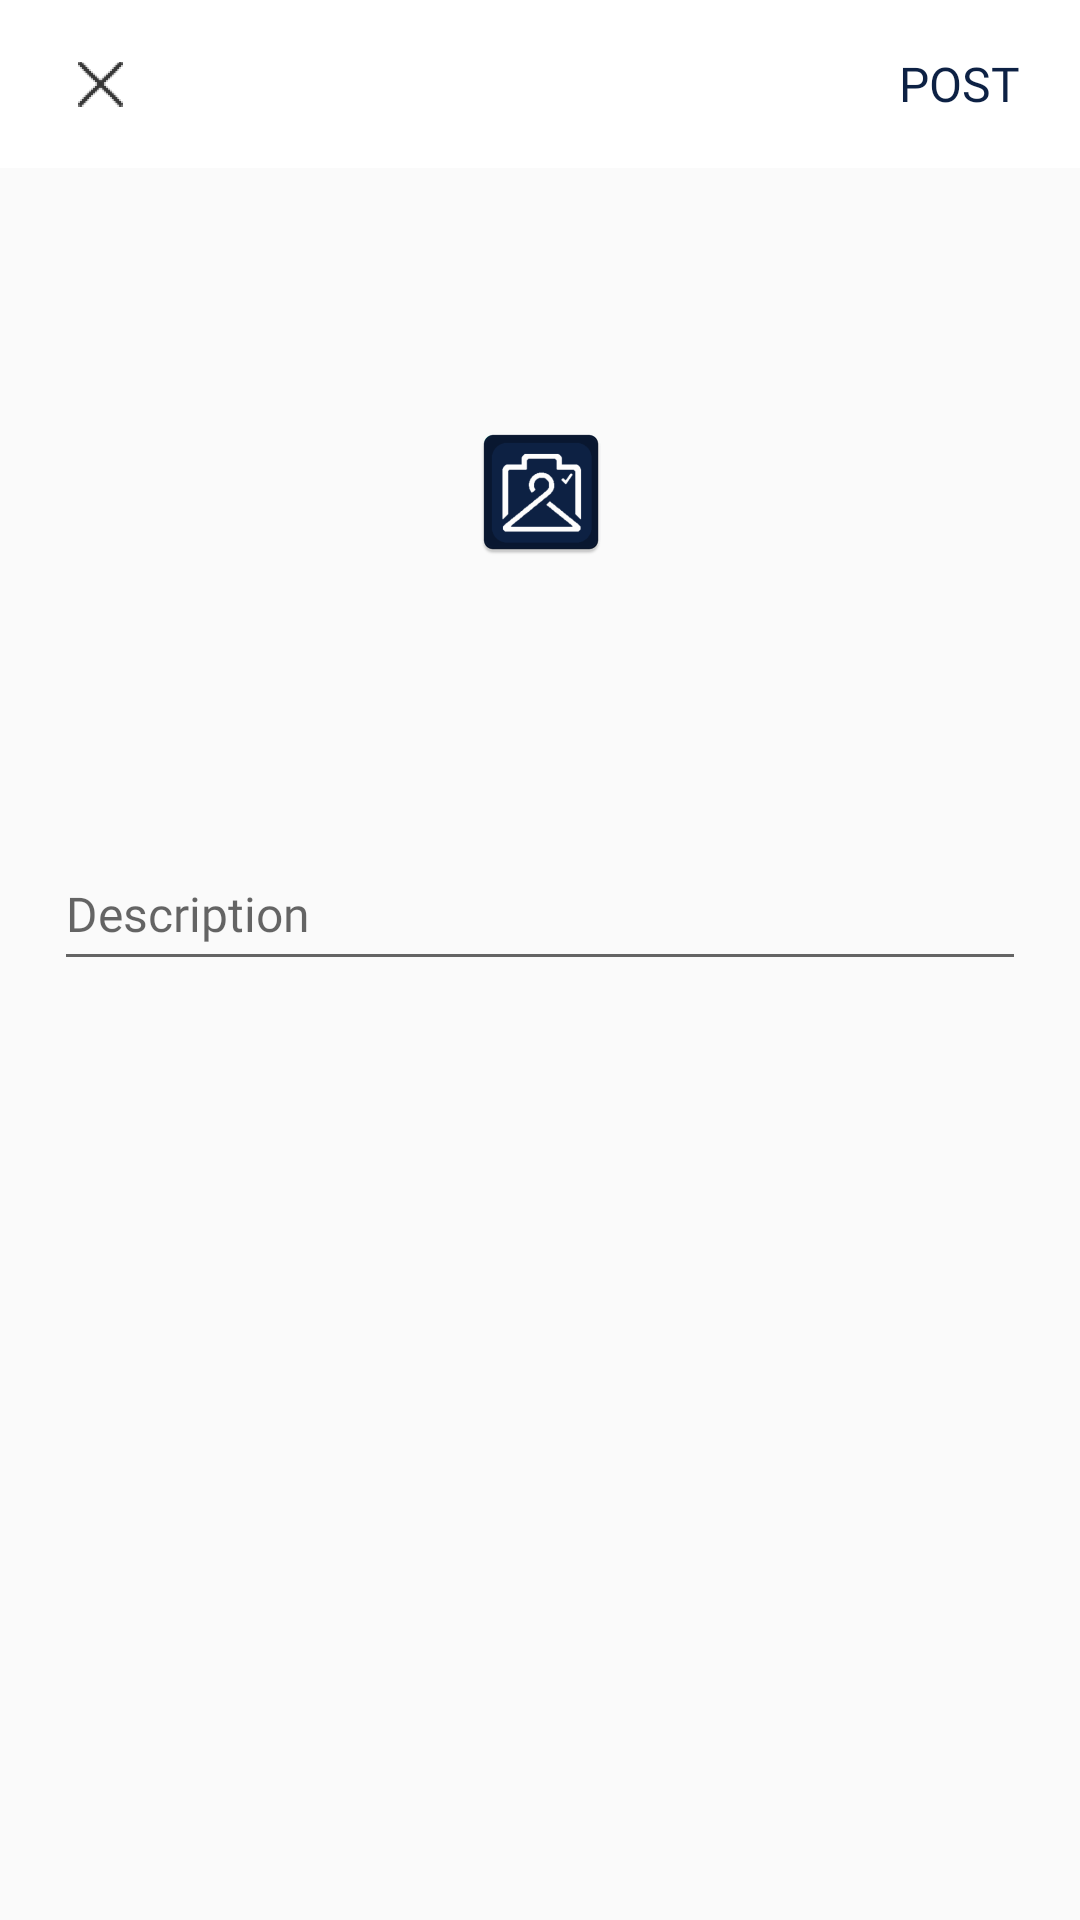

Icons on this 1080px×1920px Android screen, each with the point to tap as (x,y):
close: (100,84)
